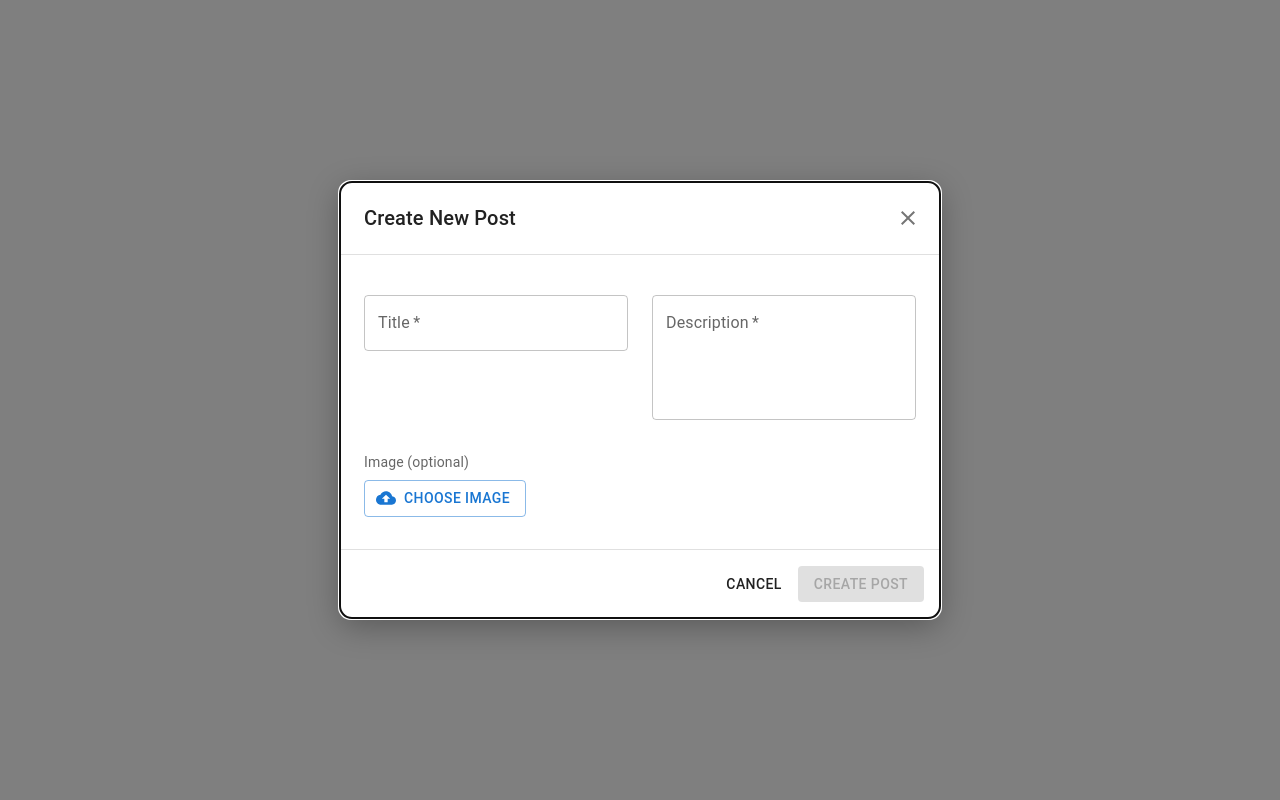
Scenario: CreateEditPostDialog › validates required fields
Expected: the button "Create Post" is disabled, [798,566,924,602]
// Fill in title
Type "Test Title" into the field labelled "Title *" at (496, 323), box [364,295,628,351]
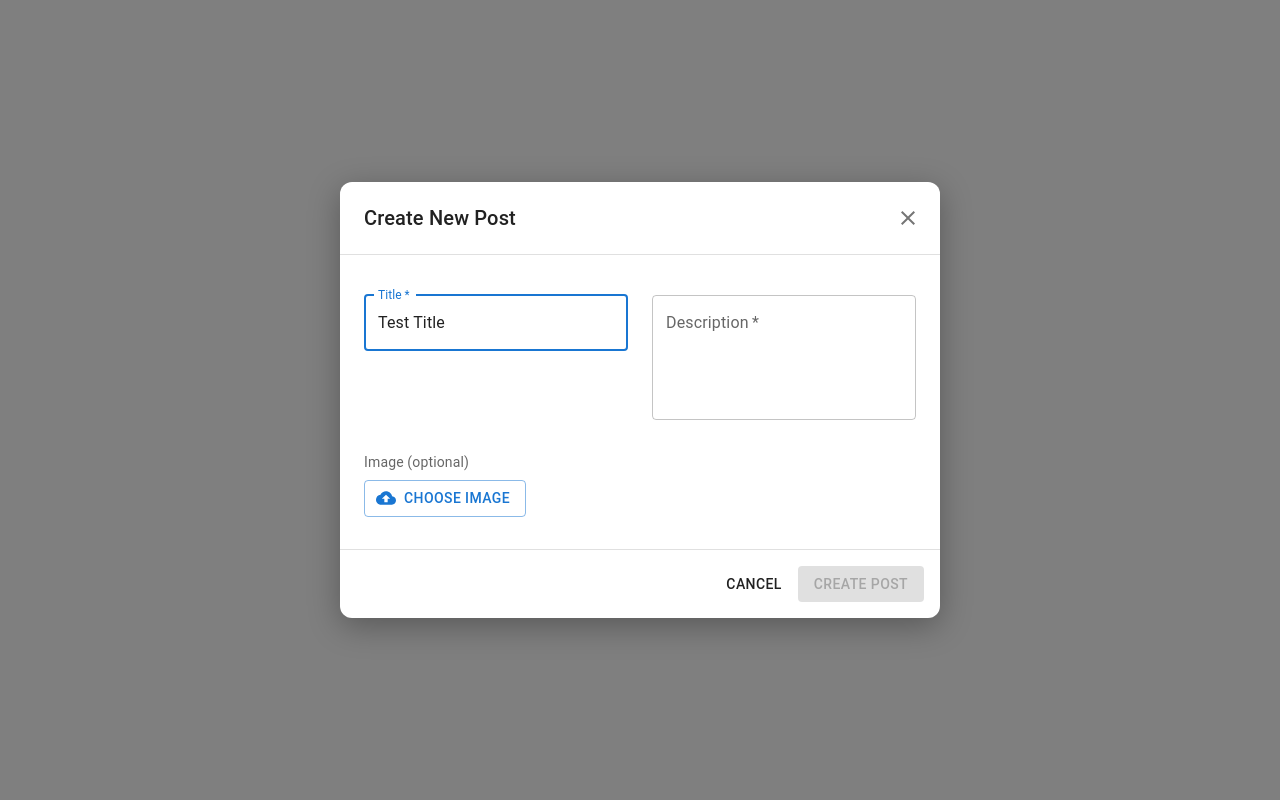
Expected: the button "Create Post" is disabled, [798,566,924,602]
// Fill in description
Type "Test Description" into the text box labelled "Description *" at (784, 358), box [666,312,902,404]
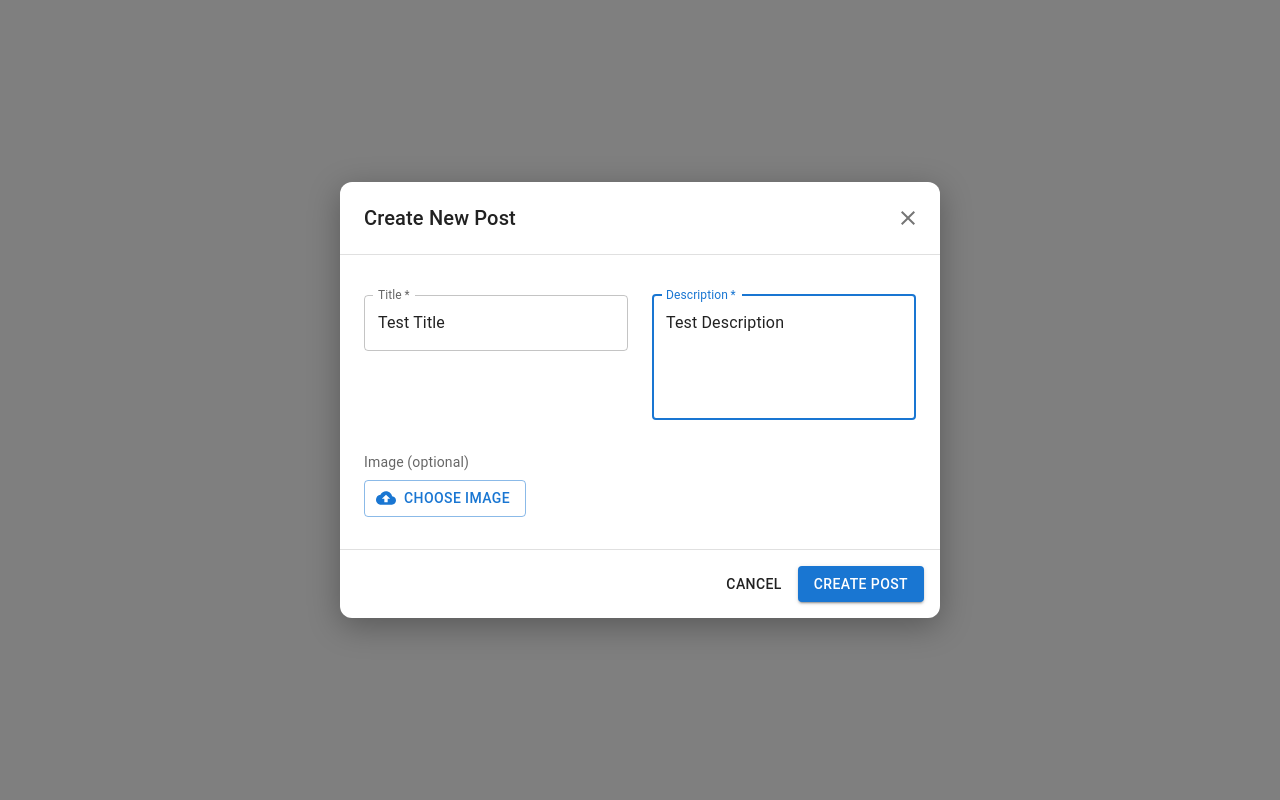
Expected: the button "Create Post" is enabled, [798,566,924,602]
